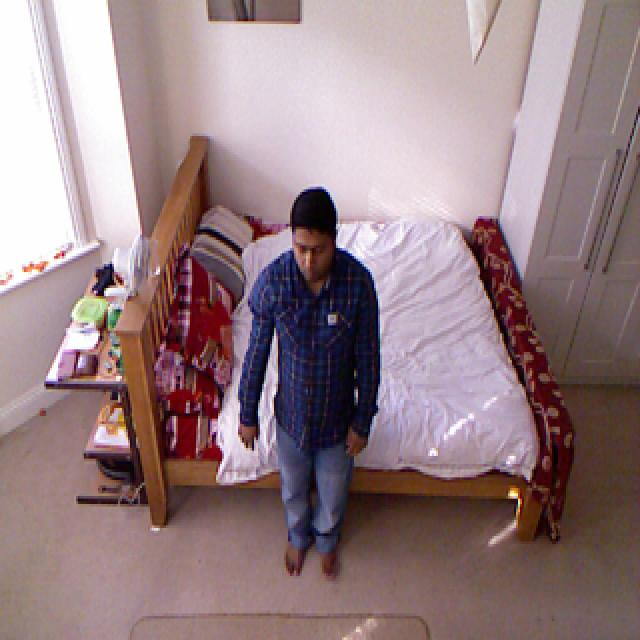standing: (244, 183, 379, 598)
